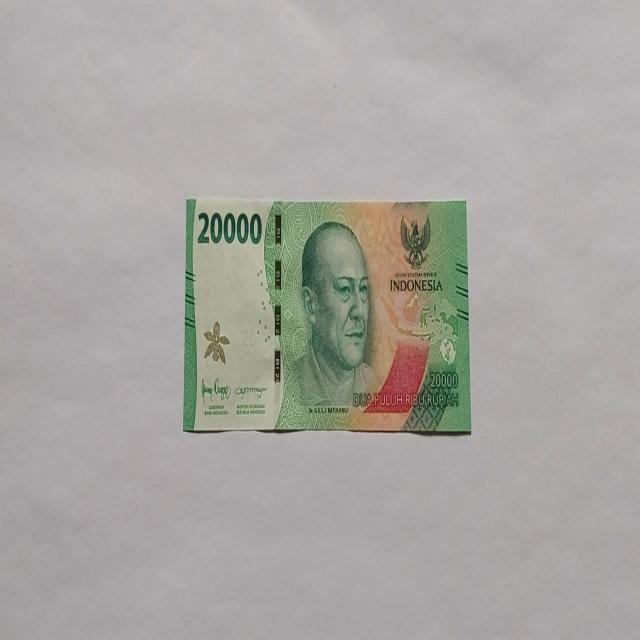dua puluh ribu rupiah: (183, 196, 472, 436), (276, 218, 384, 428)
